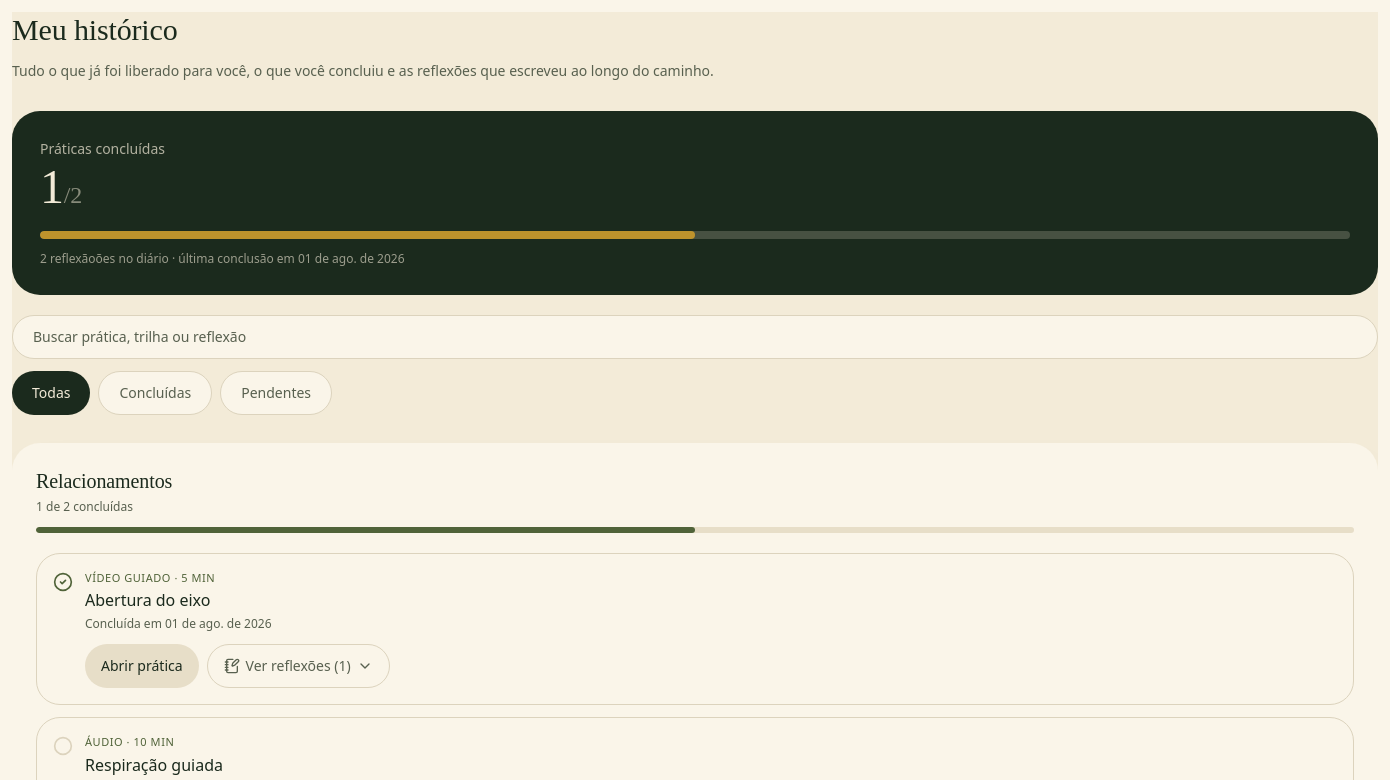
histórico do cliente › mostra as reflexões ligadas à prática somente ao expandir
Click the button "Ver reflexões (1)" at (298, 666), box [207,644,390,688]
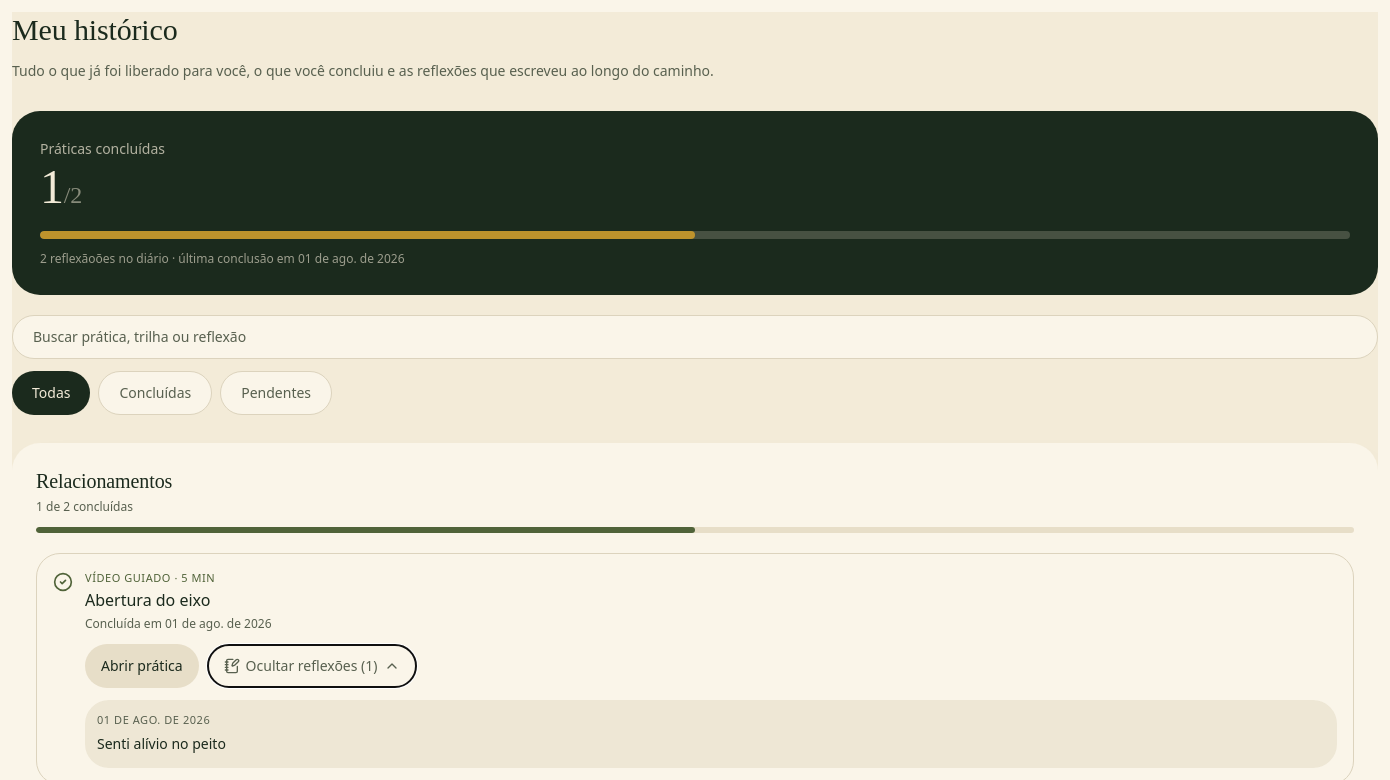
Expected: the button named "Ver reflexões (1)" is expanded, [207,644,417,688]
